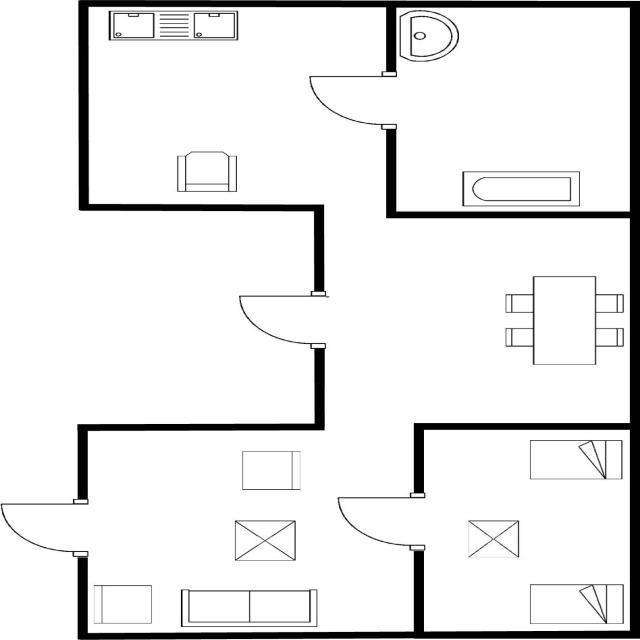armchair: (172, 148, 242, 194)
bed: (524, 580, 627, 628), (524, 436, 626, 482)
coffee_table: (230, 517, 298, 563), (462, 517, 522, 560)
dining_table: (500, 273, 626, 368)
large_sofa: (173, 586, 320, 629)
small_sink: (396, 8, 461, 64)
small_sofa: (236, 448, 304, 495), (90, 582, 156, 626)
tub: (457, 168, 585, 210)
twin_sink: (104, 8, 242, 43)
